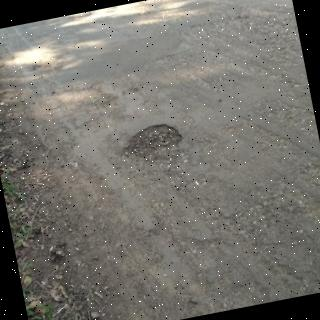pothole: (121, 123, 183, 161)
